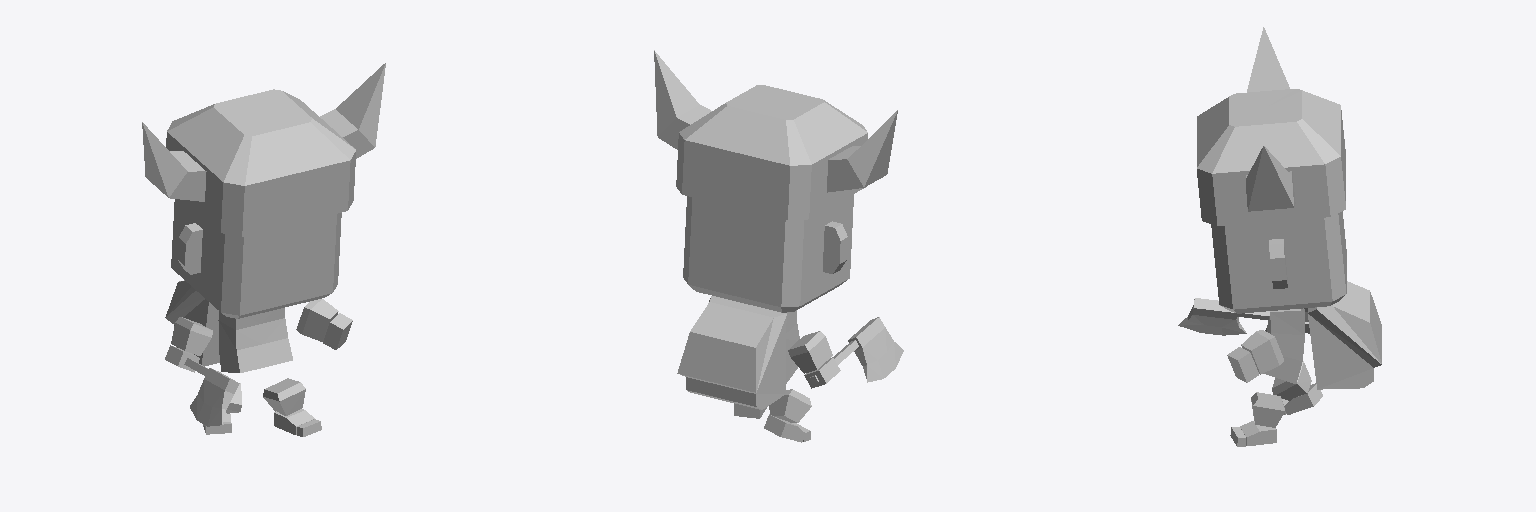
Rendered from mini_knight_000002.obj.
3 views of the same model, side by side, from view 1: azimuth 30°, elevation 25°; view 2: azimuth 150°, elevation 25°; view 3: azimuth 270°, elevation 25° (orthographic).
Parts seen in each view (by area): view 1: cap_Object01_Material__3, Mesh_objheadusOBJexport_Material, back_Object03_Material__3, axe_Object02_Material__3; view 2: cap_Object01_Material__3, Mesh_objheadusOBJexport_Material, back_Object03_Material__3, axe_Object02_Material__3; view 3: cap_Object01_Material__3, Mesh_objheadusOBJexport_Material, back_Object03_Material__3, axe_Object02_Material__3.
Boxes of the visible parts, x1,y1,x2,y2 form: cap_Object01_Material__3: [142, 63, 385, 236]; Mesh_objheadusOBJexport_Material: [165, 199, 352, 436]; back_Object03_Material__3: [165, 280, 219, 366]; axe_Object02_Material__3: [184, 358, 239, 426]; cap_Object01_Material__3: [654, 50, 897, 220]; Mesh_objheadusOBJexport_Material: [683, 194, 853, 442]; back_Object03_Material__3: [677, 296, 786, 409]; axe_Object02_Material__3: [810, 317, 903, 383]; cap_Object01_Material__3: [1197, 27, 1345, 225]; Mesh_objheadusOBJexport_Material: [1211, 211, 1346, 446]; back_Object03_Material__3: [1308, 281, 1381, 389]; axe_Object02_Material__3: [1178, 298, 1269, 335].
Size of the model in its own units: 1.94 by 2.58 by 1.41.